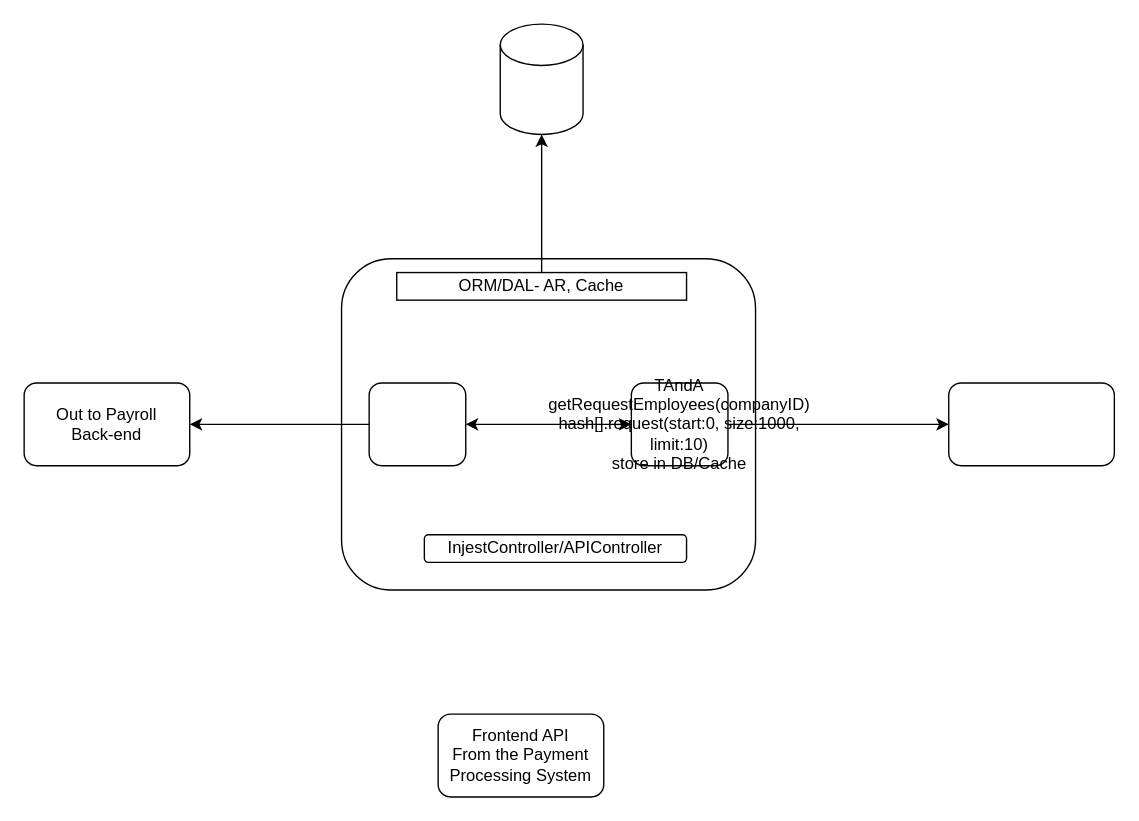
Image size: 1139x821. Some labels were removed from this diagram. The shapes that lost their labels are listed below. From the top down, each one's centre as x and y in pixels, then its label:
At point 541,79: "Starbucks, correlationId, state, status".
At point 417,424: "Payroll Request(CompanyID) post to Payroll() hash".
At point 1030,424: "Out to T&A Back-end".
